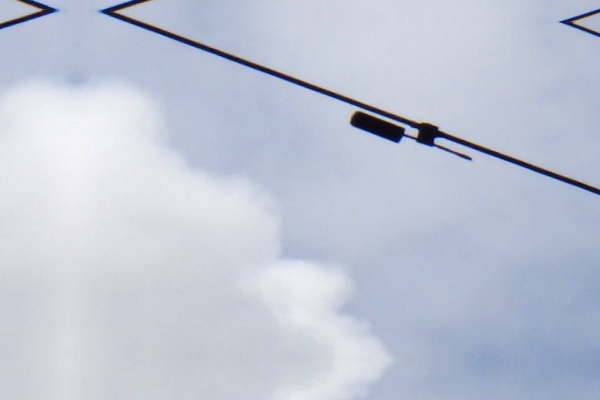damper_defect: (349, 107, 475, 161)
